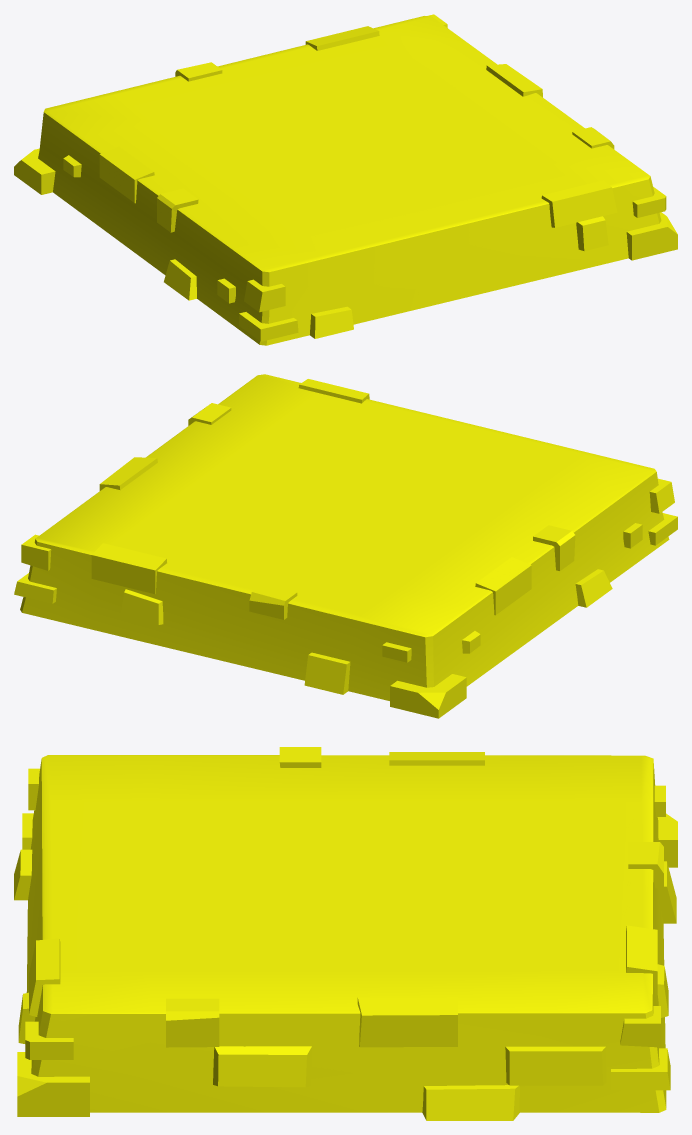
The model's file is SM_BLD_base_v01_01.glb.
The picture shows the model from 3 angles, top to bottom: view 1: azimuth 30°, elevation 25°; view 2: azimuth 150°, elevation 25°; view 3: azimuth 270°, elevation 25°; orthographic projection. The views are drawn at different scales.
Visible parts, largest first — view 1: SM_BLD_base_v01_01; view 2: SM_BLD_base_v01_01; view 3: SM_BLD_base_v01_01.
Part boxes in pixels (x1,y1,x2,y2): SM_BLD_base_v01_01: (14, 14, 677, 345); SM_BLD_base_v01_01: (14, 374, 677, 718); SM_BLD_base_v01_01: (14, 747, 677, 1120).
Size of the model in its own units: 6.47 by 1.09 by 6.43.
1 material, 1 textured.
